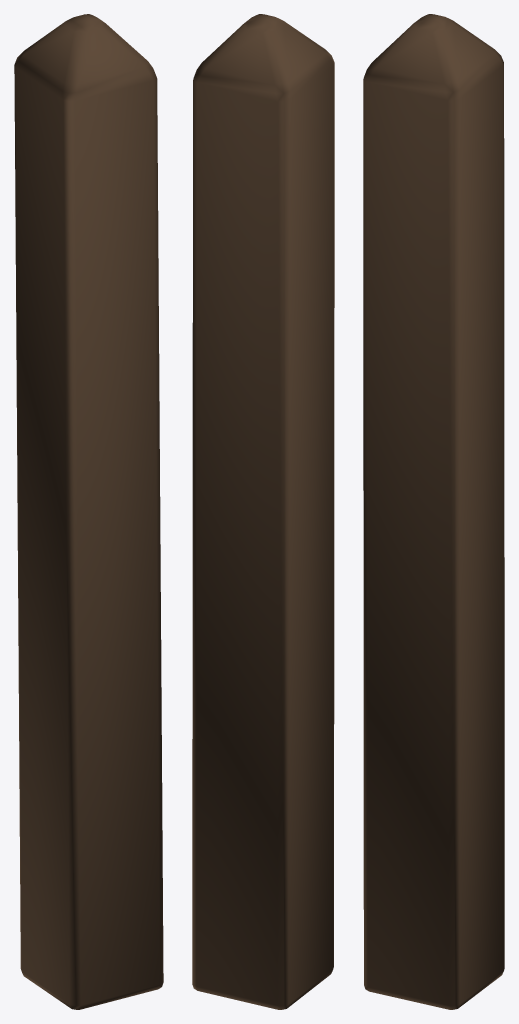
File: Barriere_Poteau.fbx
The picture shows the model from 3 angles, left to right: view 1: azimuth 30°, elevation 25°; view 2: azimuth 150°, elevation 25°; view 3: azimuth 330°, elevation 25°; orthographic projection.
Parts seen in each view (by area): view 1: Barriere_Poteau; view 2: Barriere_Poteau; view 3: Barriere_Poteau.
Part boxes in pixels (x1,y1,x2,y2): Barriere_Poteau: (14,14,163,1009); Barriere_Poteau: (192,14,334,1009); Barriere_Poteau: (363,14,504,1009).
Bounding box in the file's own units: 0.1373 × 1.27 × 0.1392.
